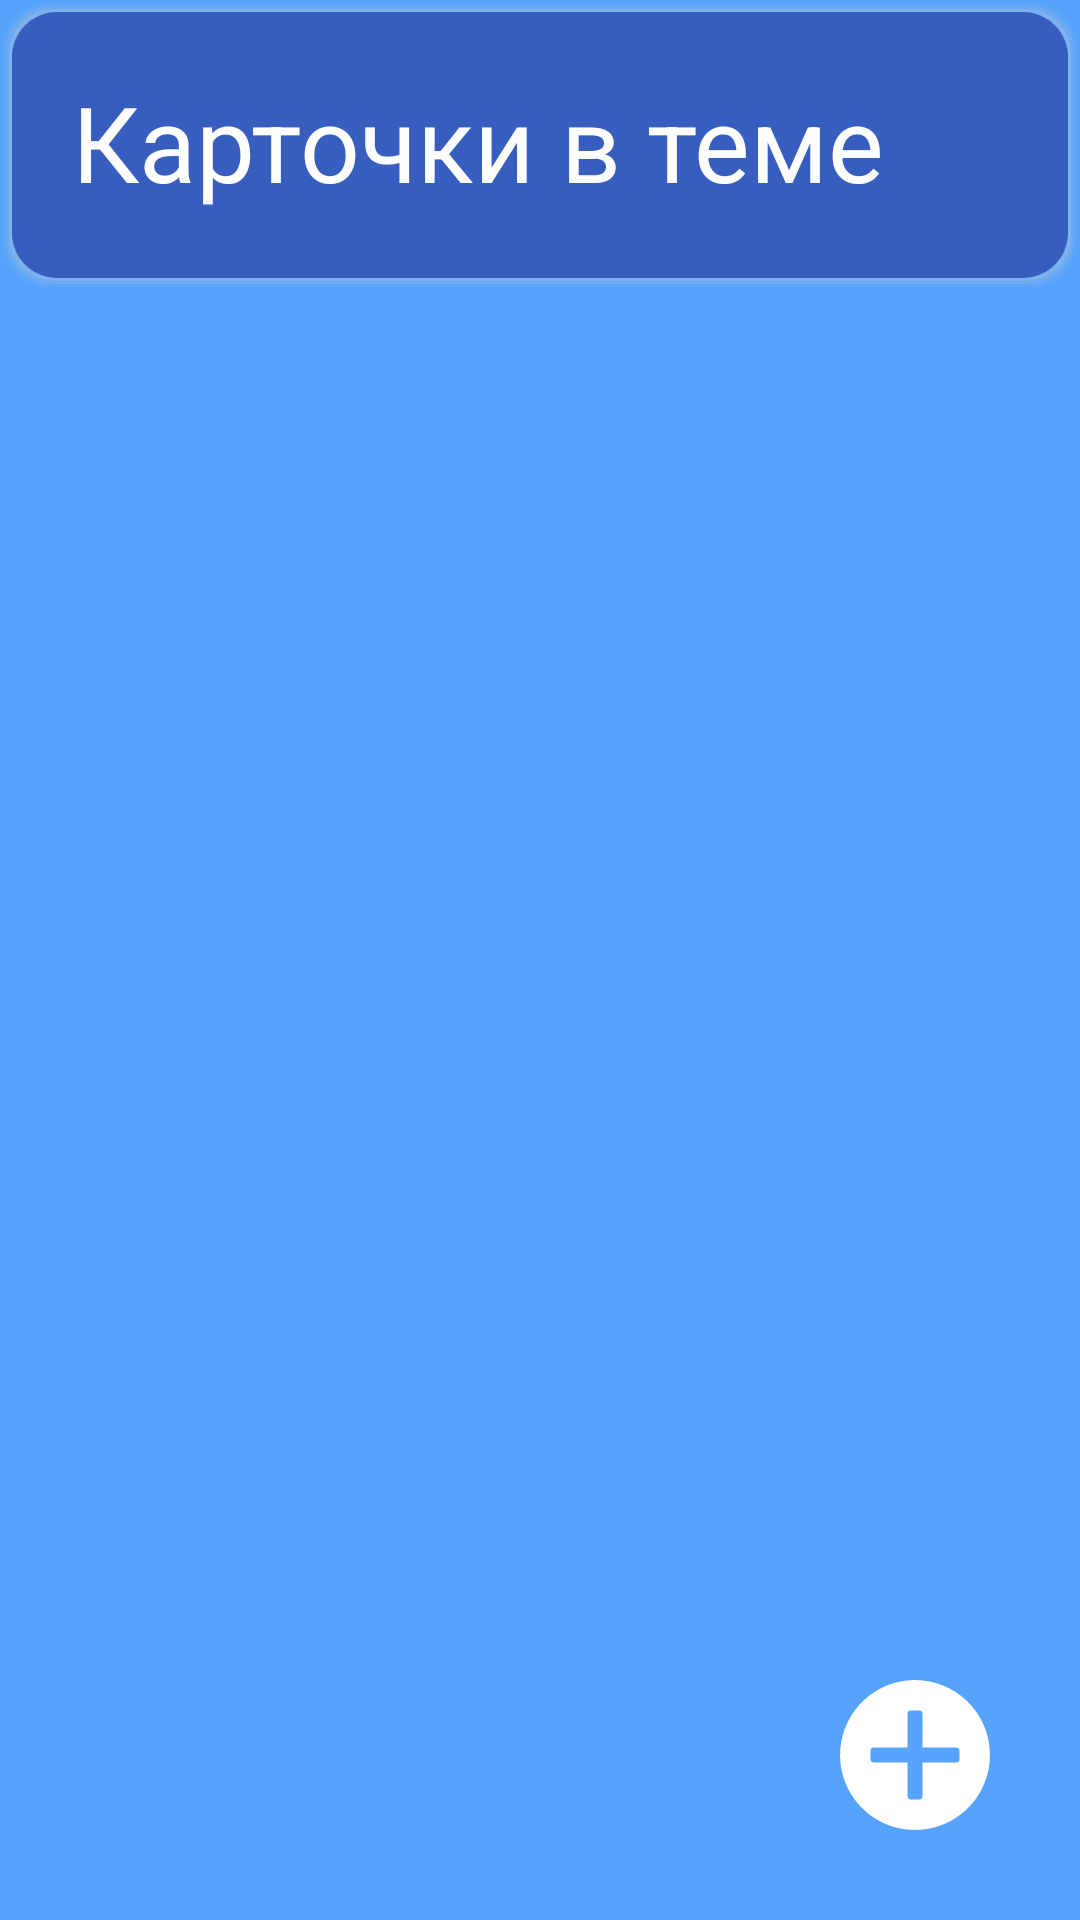

Named icons in this screenshot (1080w x 1920h) and their centers, (x=x, y=y):
plus: (x=915, y=1755)
